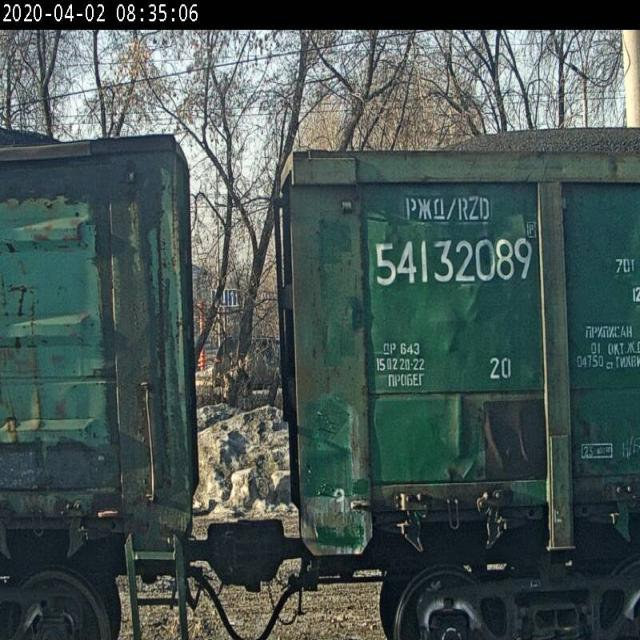gondola: (260, 100, 639, 640), (0, 96, 214, 640)
